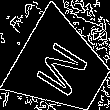M_SE: (30, 34, 94, 100)
